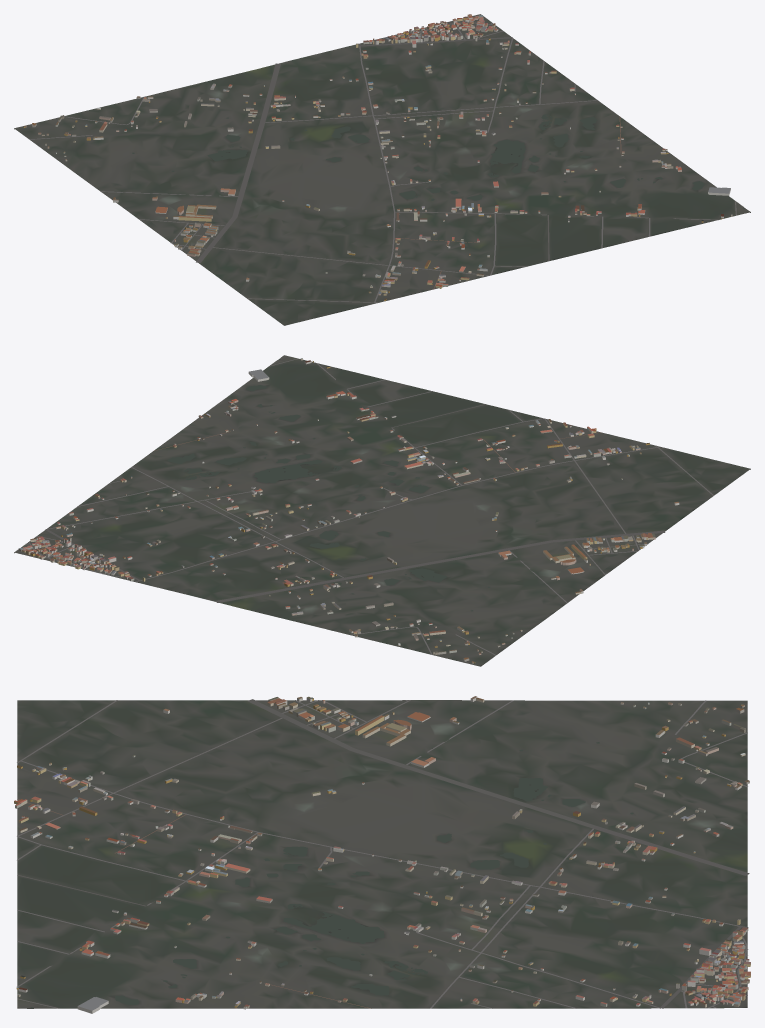
The picture shows the model from 3 angles, top to bottom: view 1: azimuth 30°, elevation 25°; view 2: azimuth 150°, elevation 25°; view 3: azimuth 270°, elevation 25°; orthographic projection. The views are drawn at different scales.
Visible parts, largest first — view 1: ground, buildings, roads, water; view 2: ground, buildings, roads, water; view 3: ground, buildings, roads, water.
Boxes of the visible parts, x1,y1,x2,y2 form: ground: (14,14,750,325); buildings: (23,14,732,301); roads: (29,18,736,302); water: (132,114,744,208); ground: (14,355,750,666); buildings: (18,358,679,663); roads: (26,358,713,655); water: (167,359,490,611); ground: (17,700,747,1008); buildings: (14,696,750,1013); roads: (17,699,749,1008); water: (31,742,633,1008).
Size of the model in its own units: 1427 by 19.4 by 1414.
